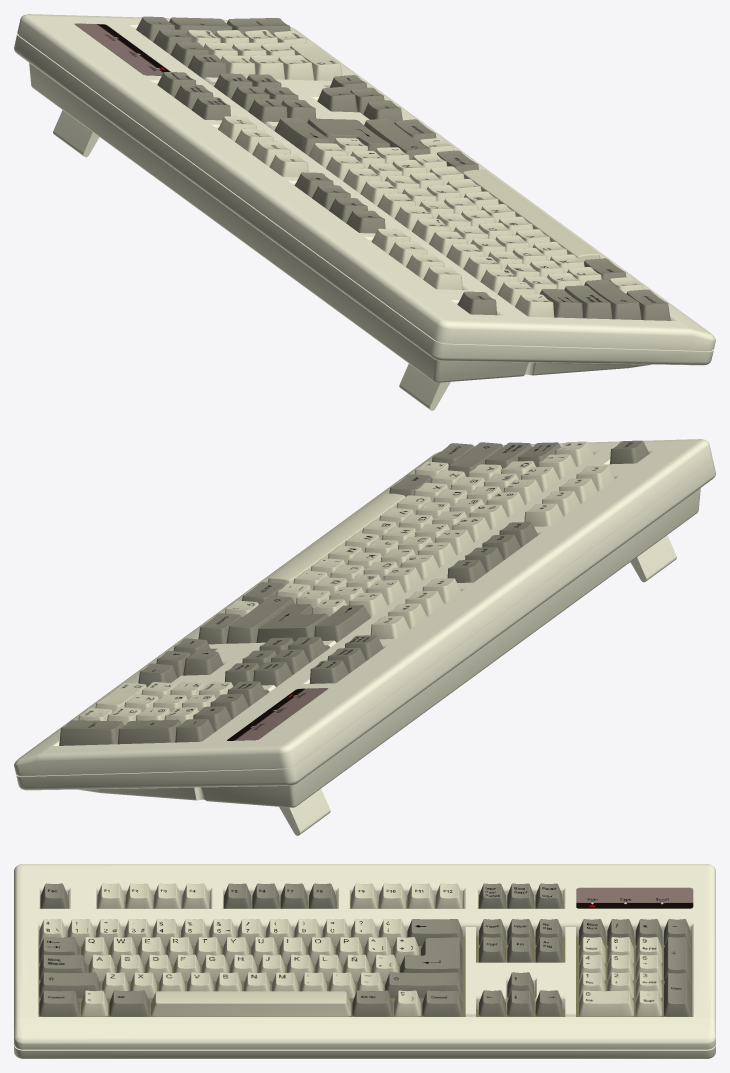
The model's file is Old_Keyboard.fbx.
3 views of the same model, one above another, from view 1: azimuth 30°, elevation 25°; view 2: azimuth 150°, elevation 25°; view 3: azimuth 270°, elevation 25° (orthographic). The views are drawn at different scales.
Parts seen in each view (by area): view 1: Old_Keyboard; view 2: Old_Keyboard; view 3: Old_Keyboard.
Boxes of the visible parts, box(x1,y1,x2,y2) form: Old_Keyboard: box(14, 14, 715, 410); Old_Keyboard: box(14, 439, 715, 835); Old_Keyboard: box(14, 864, 715, 1058).
Size of the model in its own units: 28.97 by 10.47 by 75.24.
